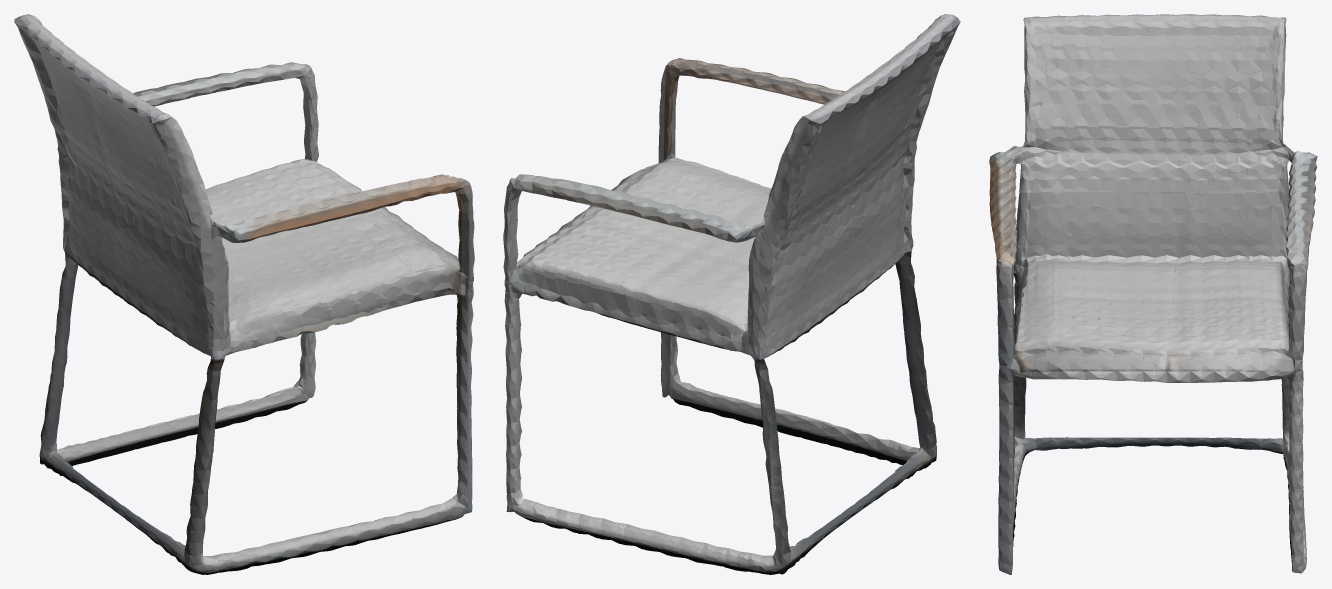
File: elem_115_131_206_213_1_8.obj
3 renders of one model, left to right at view 1: azimuth 30°, elevation 25°; view 2: azimuth 150°, elevation 25°; view 3: azimuth 270°, elevation 25°, orthographic. The views are drawn at different scales.
Size of the model in its own units: 0.5329 by 0.7153 by 0.4952.
Materials: 1 (1 with a texture image).
